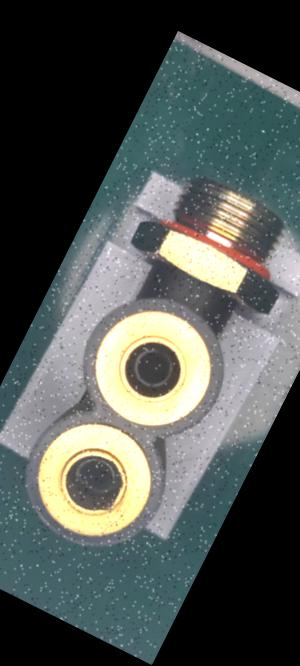craze: (190, 275, 205, 295)
off-centered: (60, 443, 125, 506)
